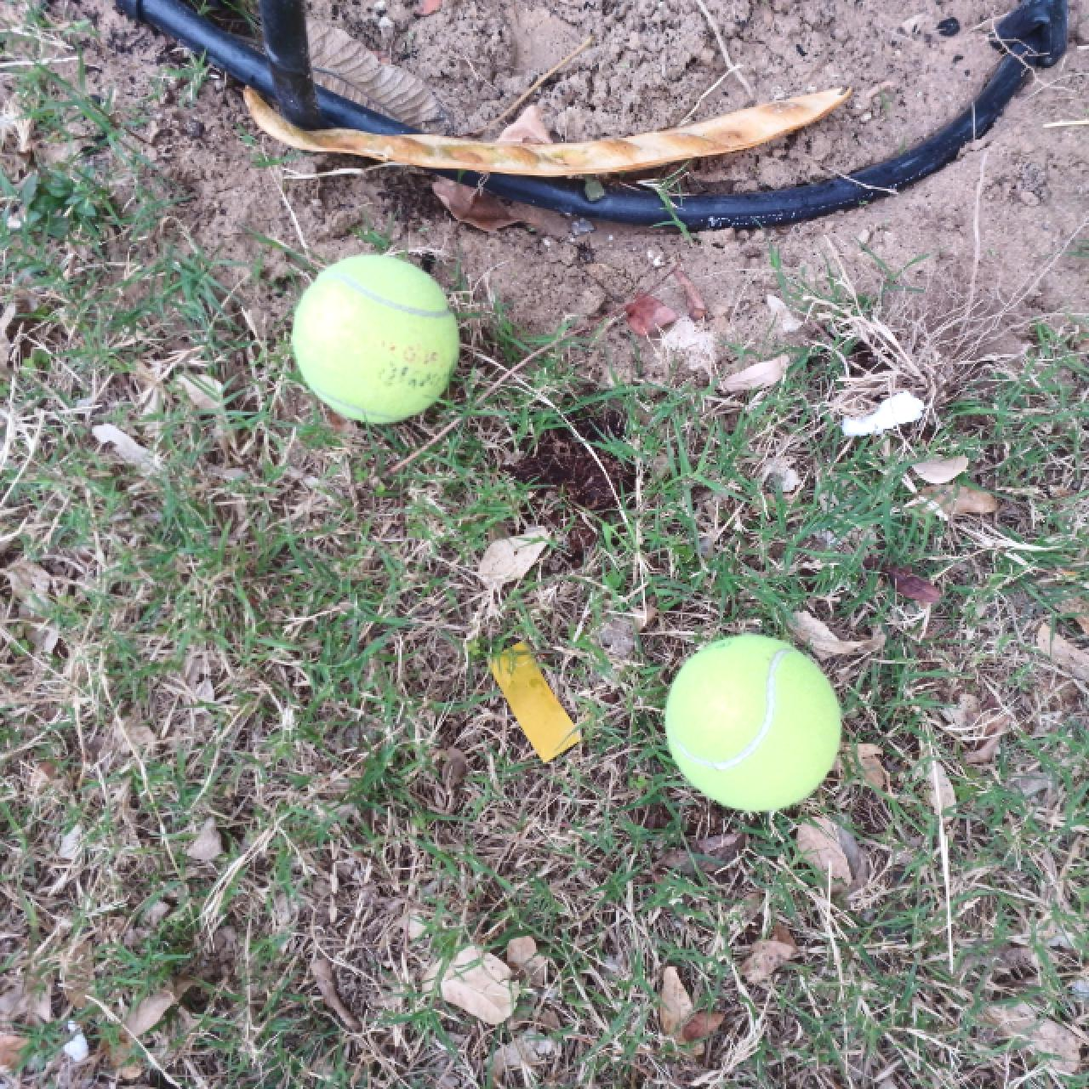tennis-ball: (667, 633, 842, 812), (292, 251, 458, 424)
